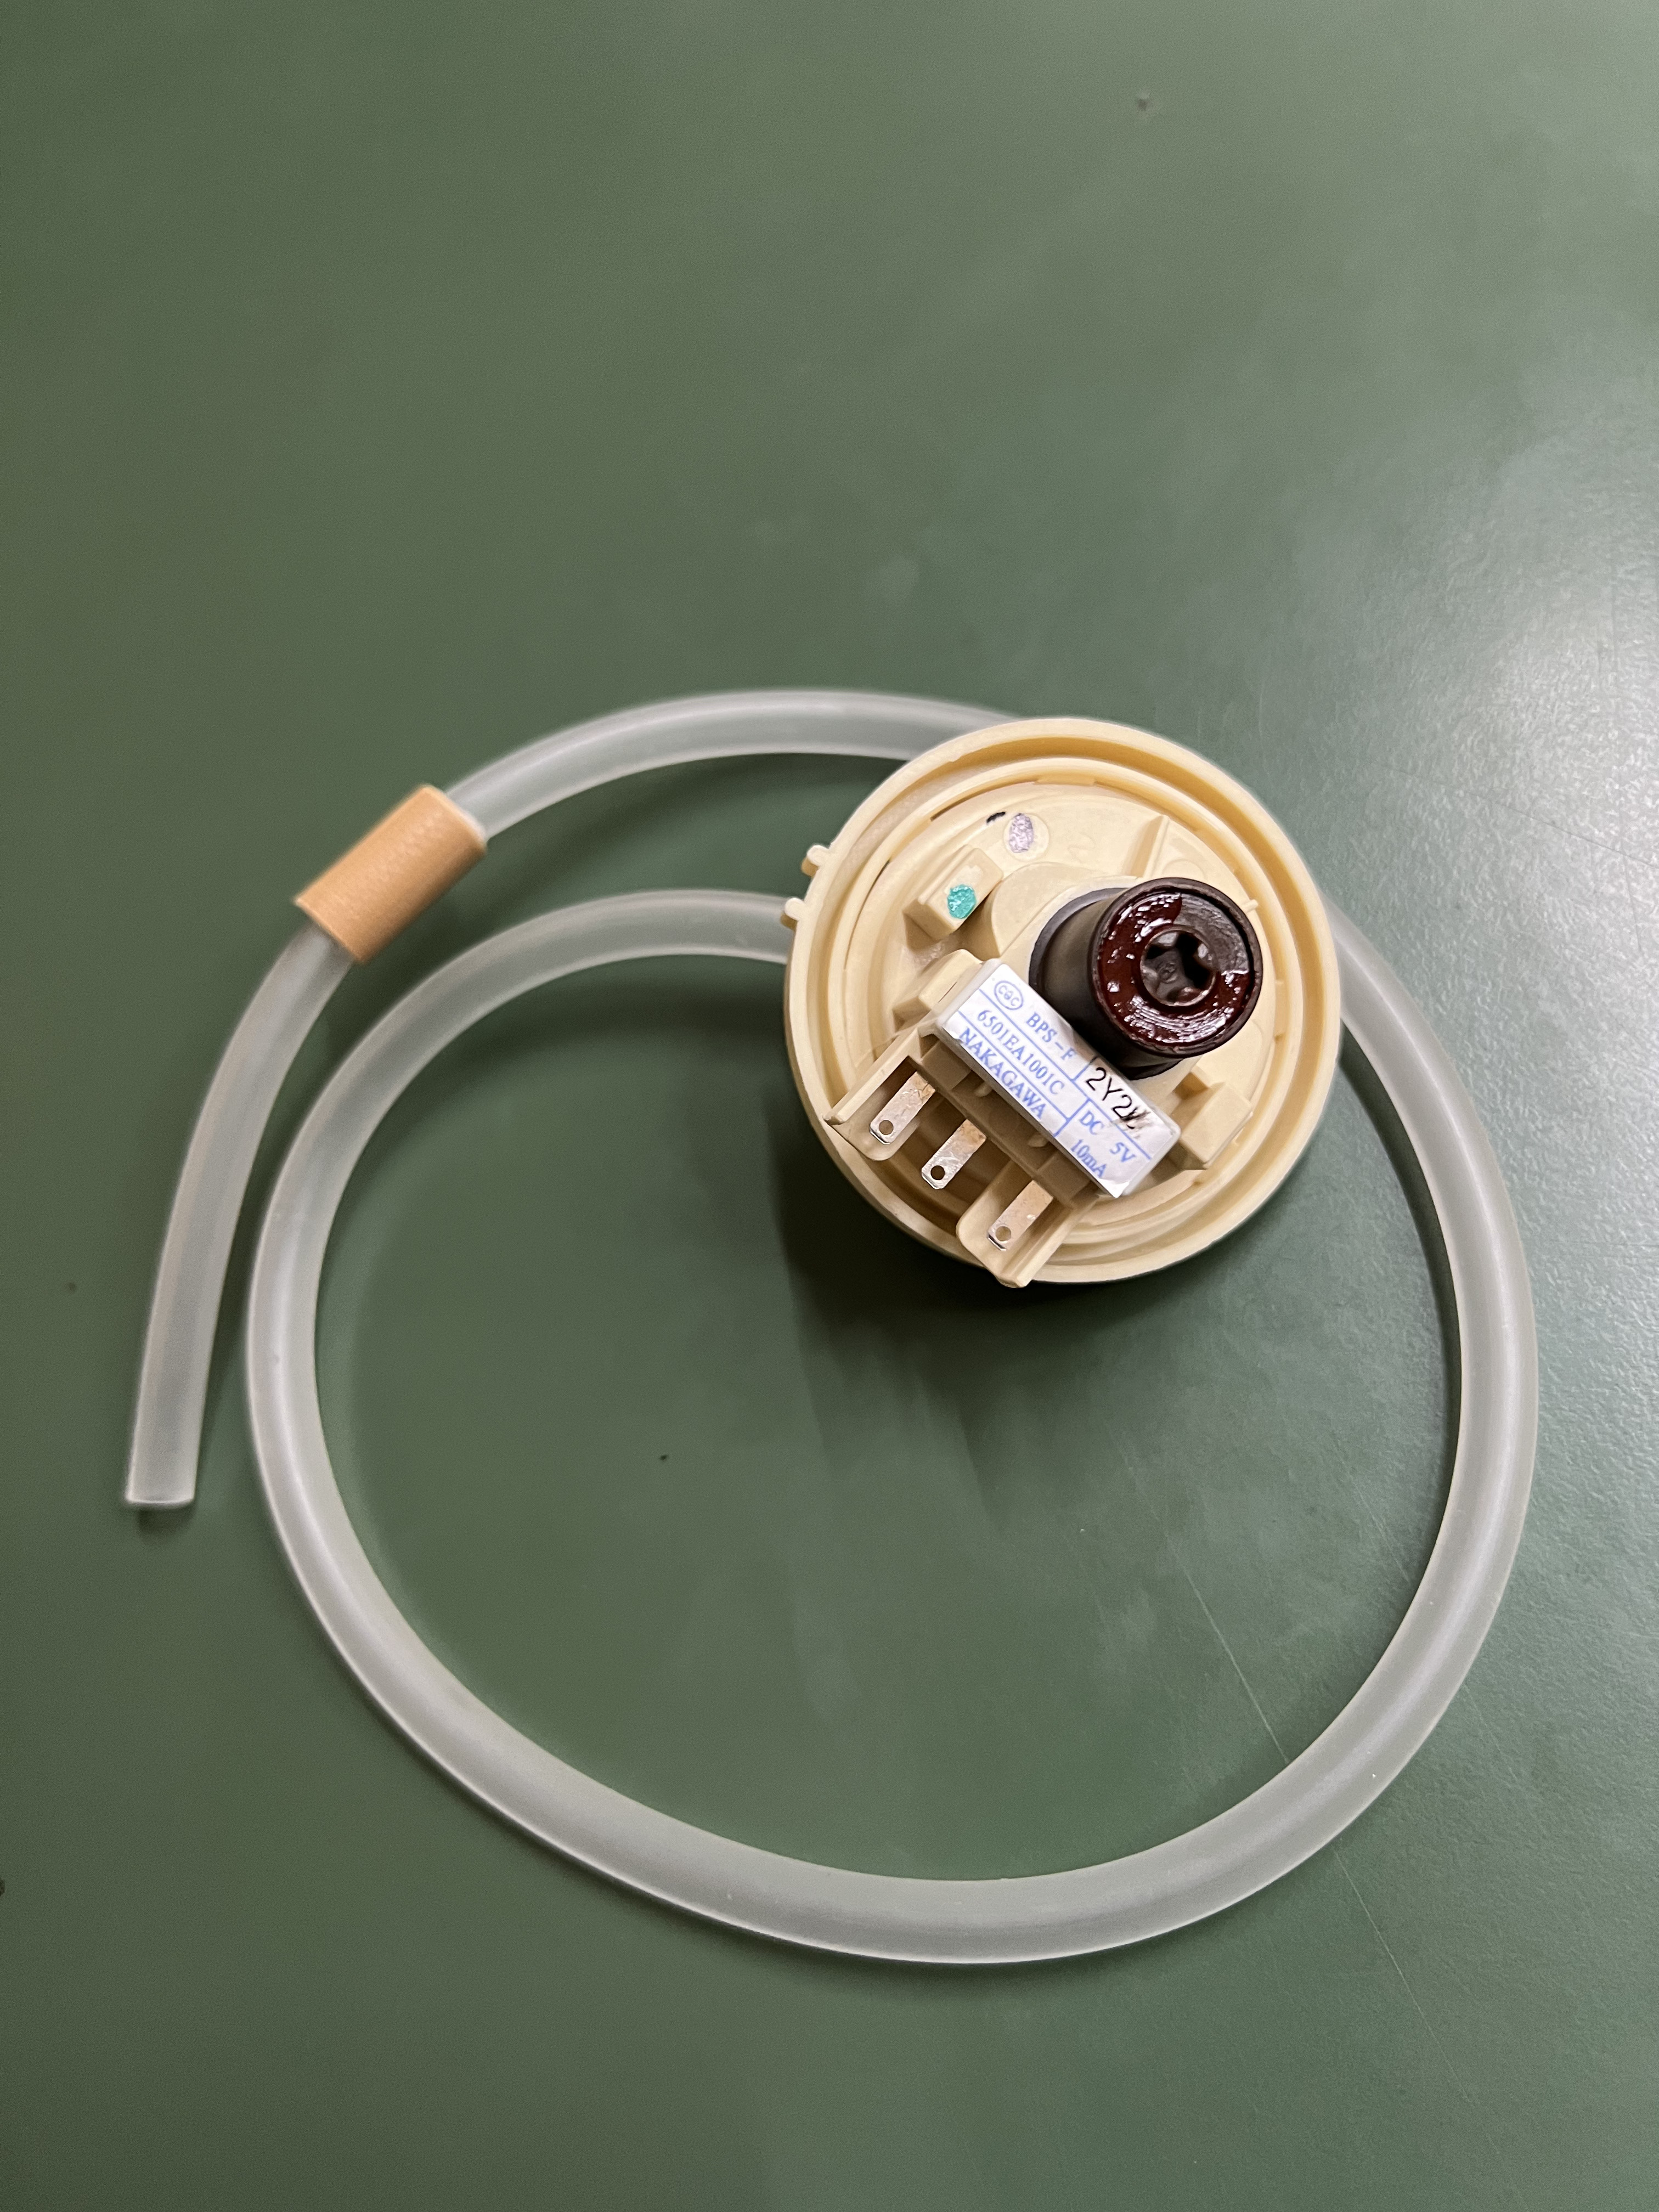pressure_sensor: (146, 676, 1567, 1968)
